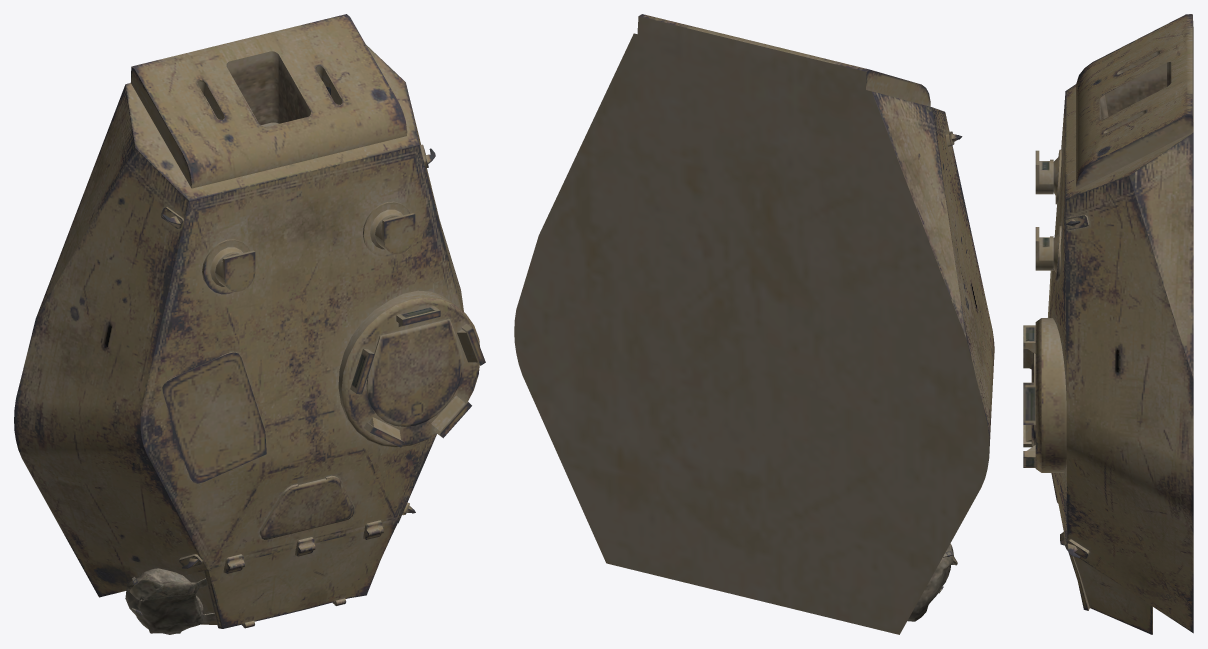
File: Turret_02.glb
3 views of the same model, side by side, from view 1: azimuth 30°, elevation 25°; view 2: azimuth 150°, elevation 25°; view 3: azimuth 270°, elevation 25° (orthographic). The views are drawn at different scales.
Visible parts, largest first — view 1: set_0_group_0; view 2: set_0_group_0; view 3: set_0_group_0.
Boxes of the visible parts, x1,y1,x2,y2 form: set_0_group_0: (14,14,485,634); set_0_group_0: (514,14,994,634); set_0_group_0: (1023,14,1193,634).
Size of the model in its own units: 2.62 by 3.04 by 0.8946.
Materials: 1 (1 with a texture image).
